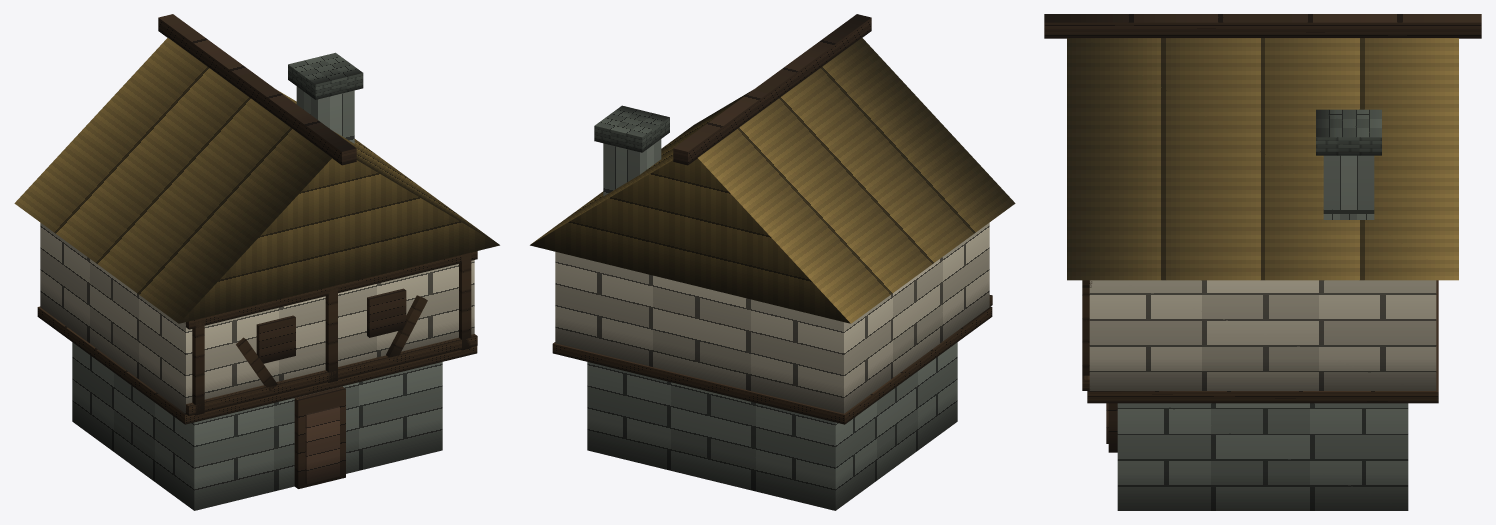
Rendered from cottage.gltf.
3 renders of one model, left to right at view 1: azimuth 30°, elevation 25°; view 2: azimuth 150°, elevation 25°; view 3: azimuth 270°, elevation 25°, orthographic. The views are drawn at different scales.
Visible parts, largest first — view 1: cottage; view 2: cottage; view 3: cottage.
Part boxes in pixels (left/top/right/bottom): cottage: left=14, top=14, right=499, bottom=510; cottage: left=530, top=14, right=1015, bottom=510; cottage: left=1044, top=14, right=1481, bottom=510.
Size of the model in its own units: 1.75 by 1.83 by 1.73.
Materials: 1 (1 with a texture image).
